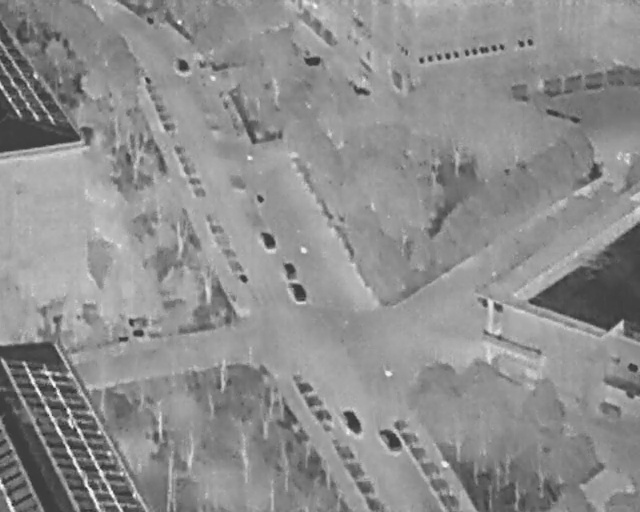Car: (378, 424, 404, 455), (342, 407, 363, 436), (288, 279, 308, 304), (281, 259, 299, 281), (173, 55, 191, 76), (260, 229, 277, 251)
